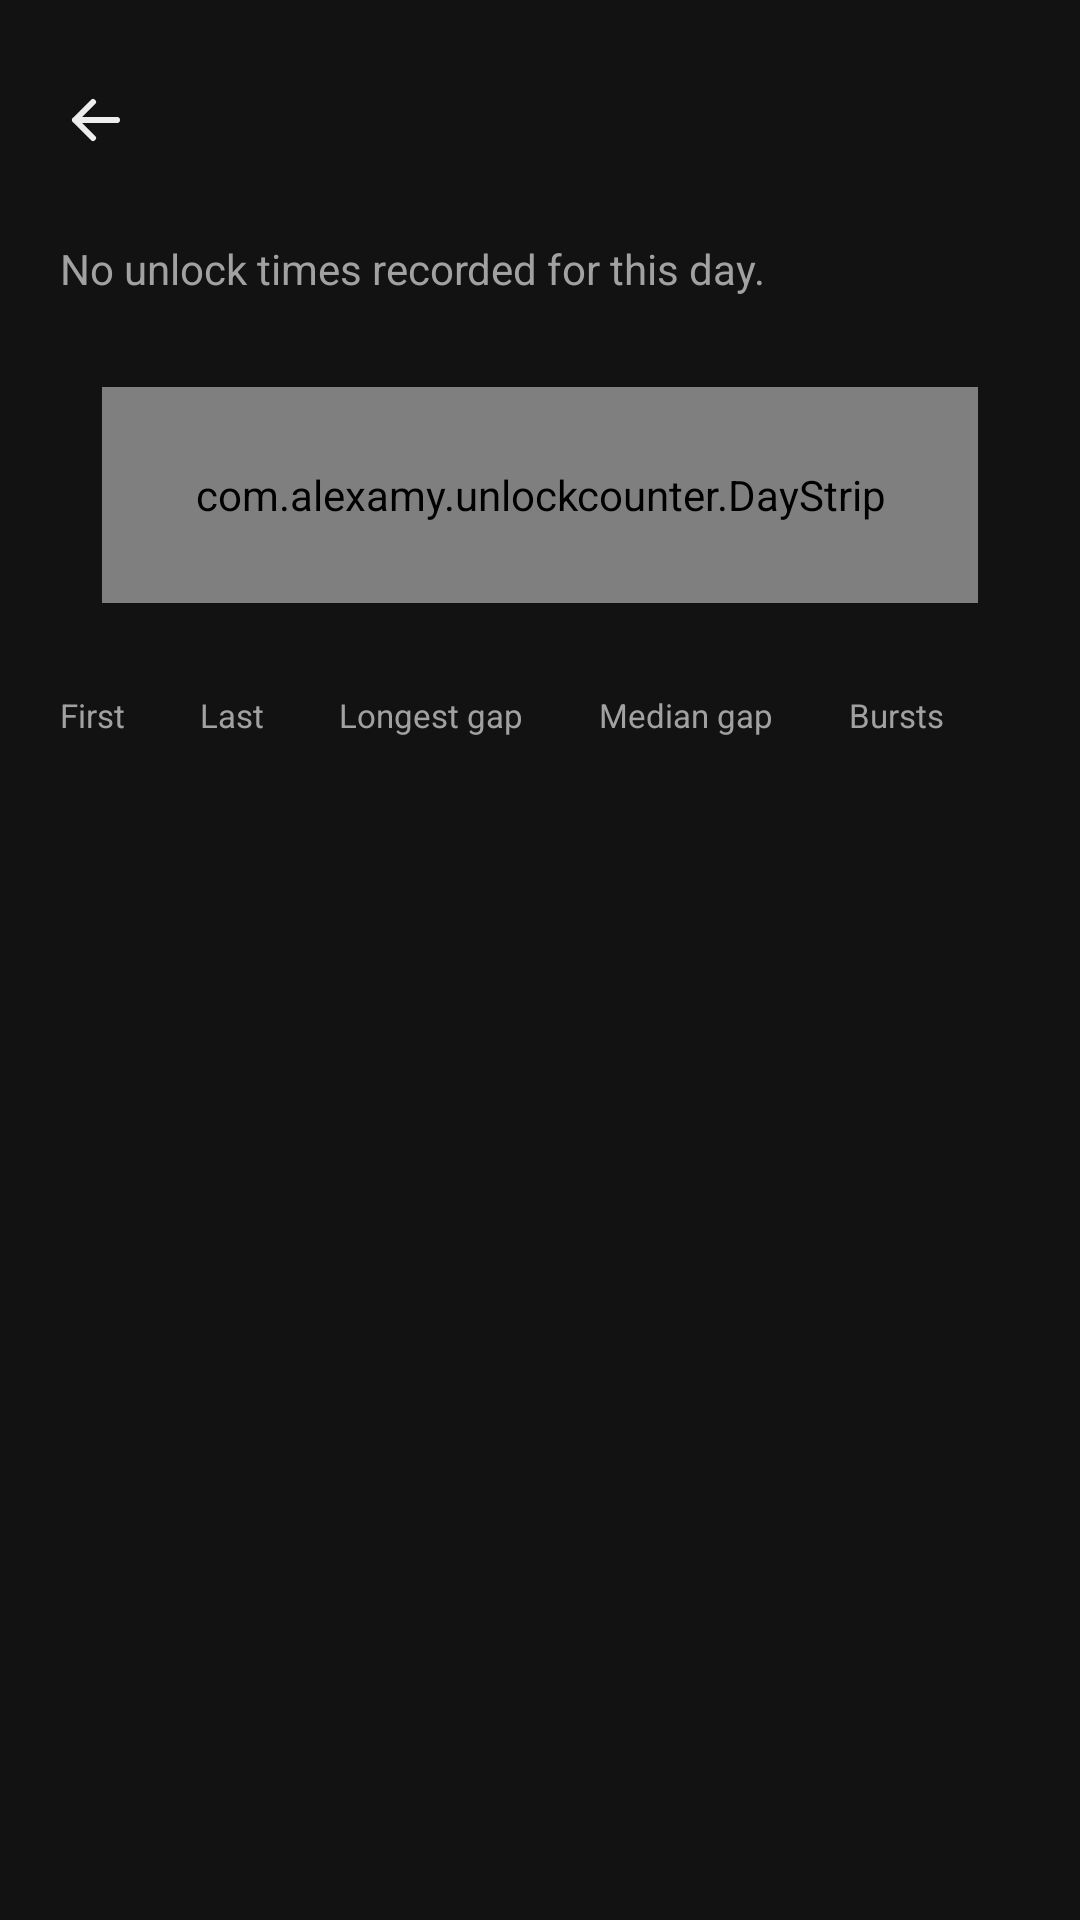

Screen size 1080 x 1920. Icon name, then its center in pixels as (x=x, y=y):
Back: (x=96, y=120)
